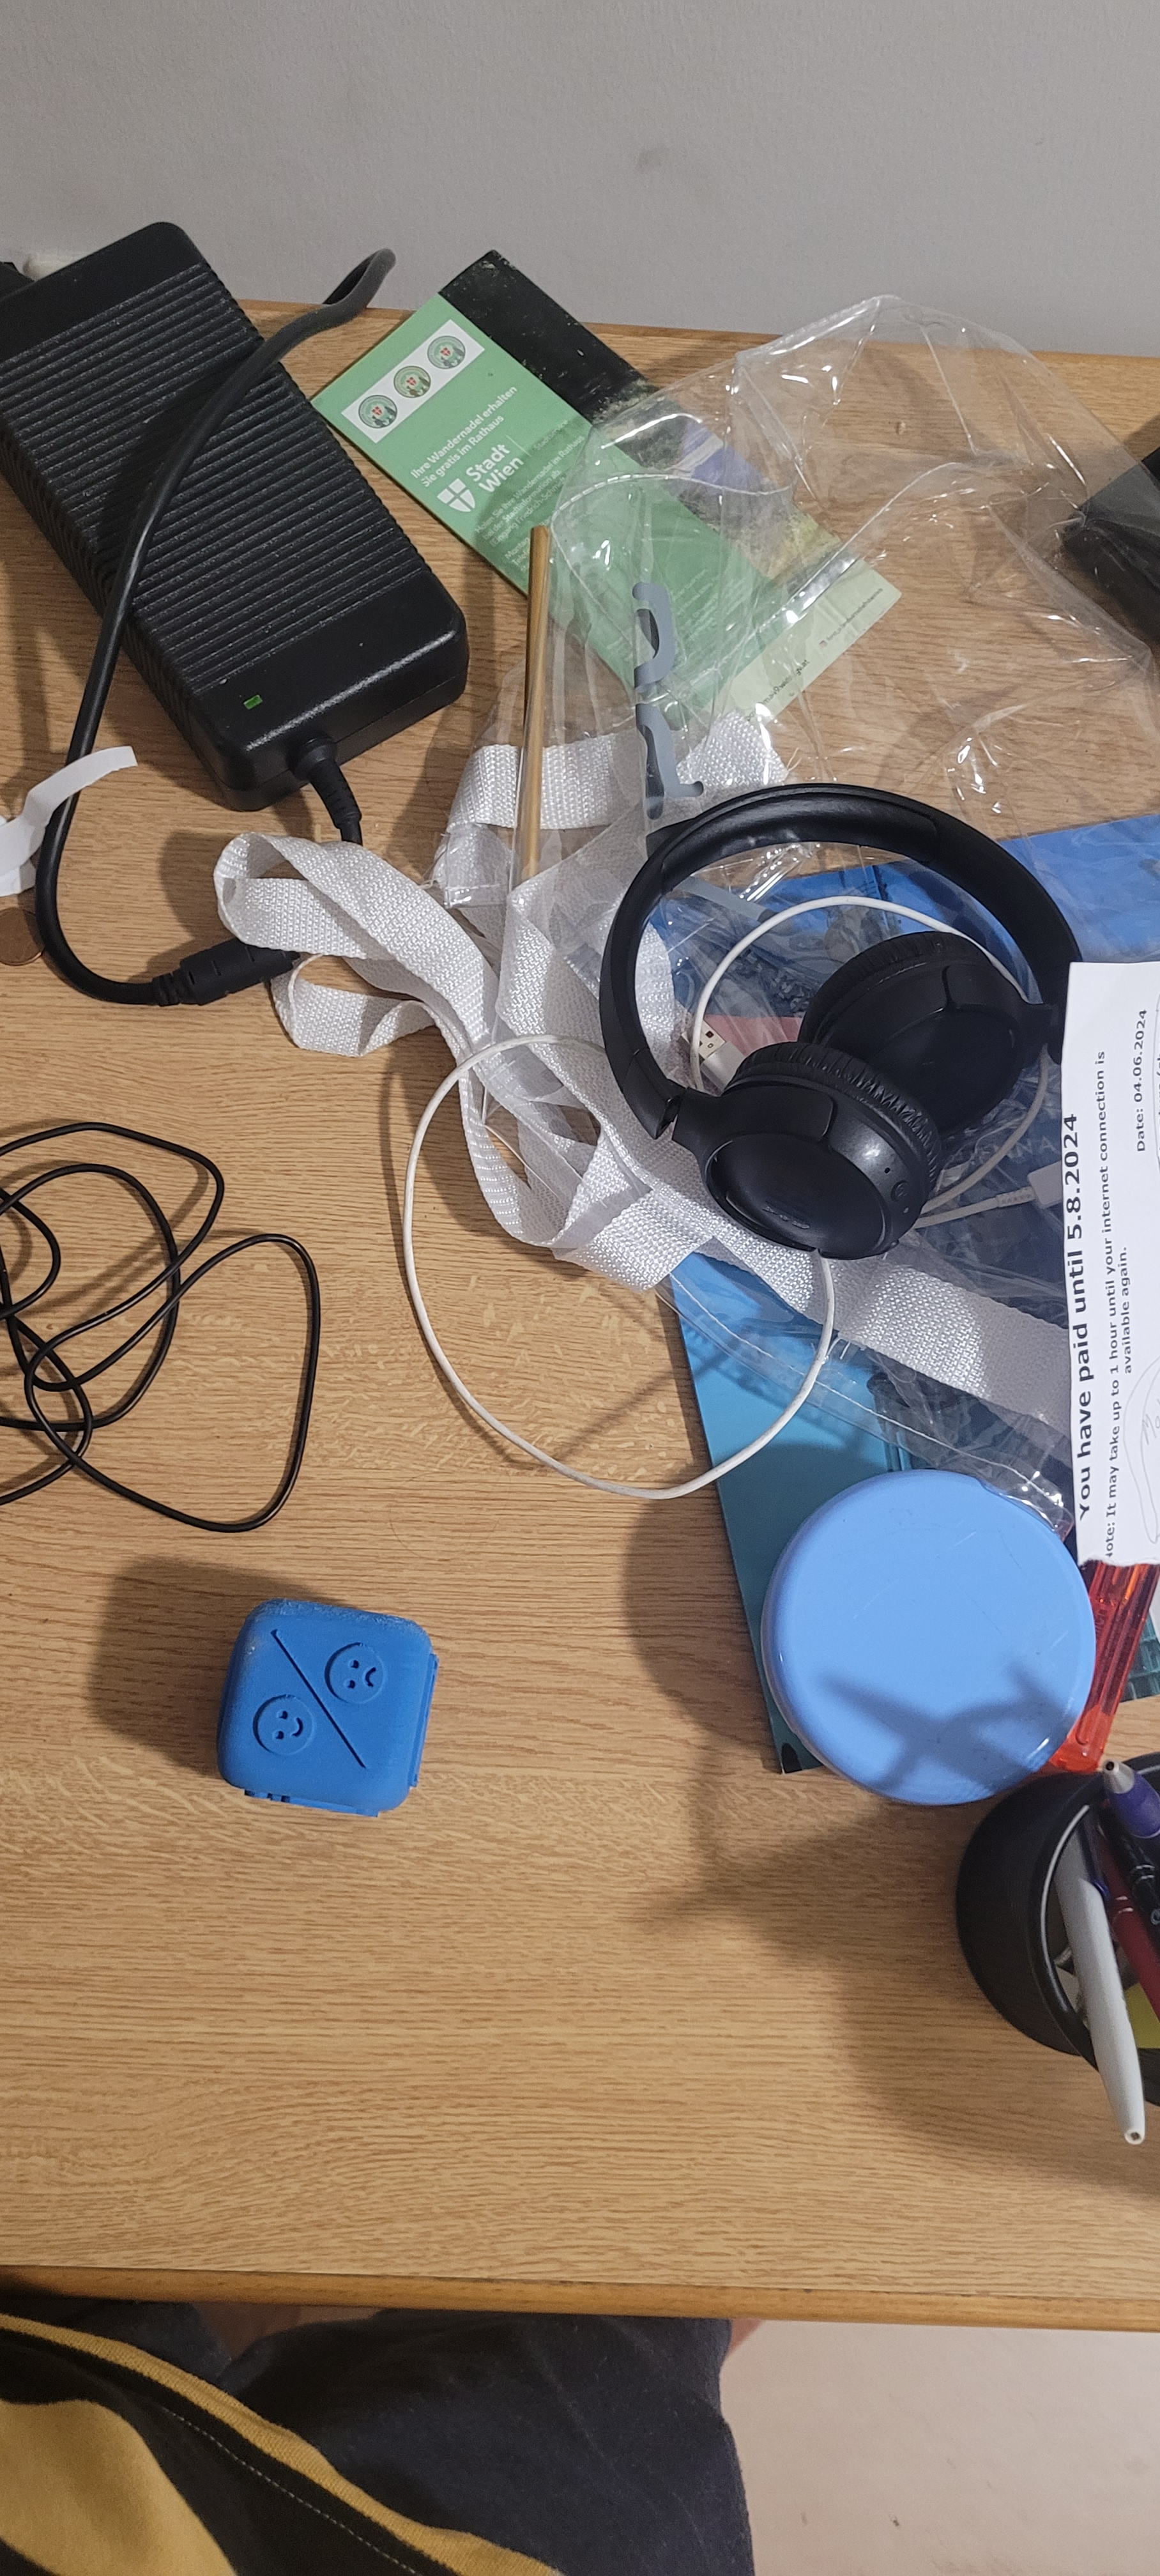Like/Dislike: (225, 1580, 437, 1843)
